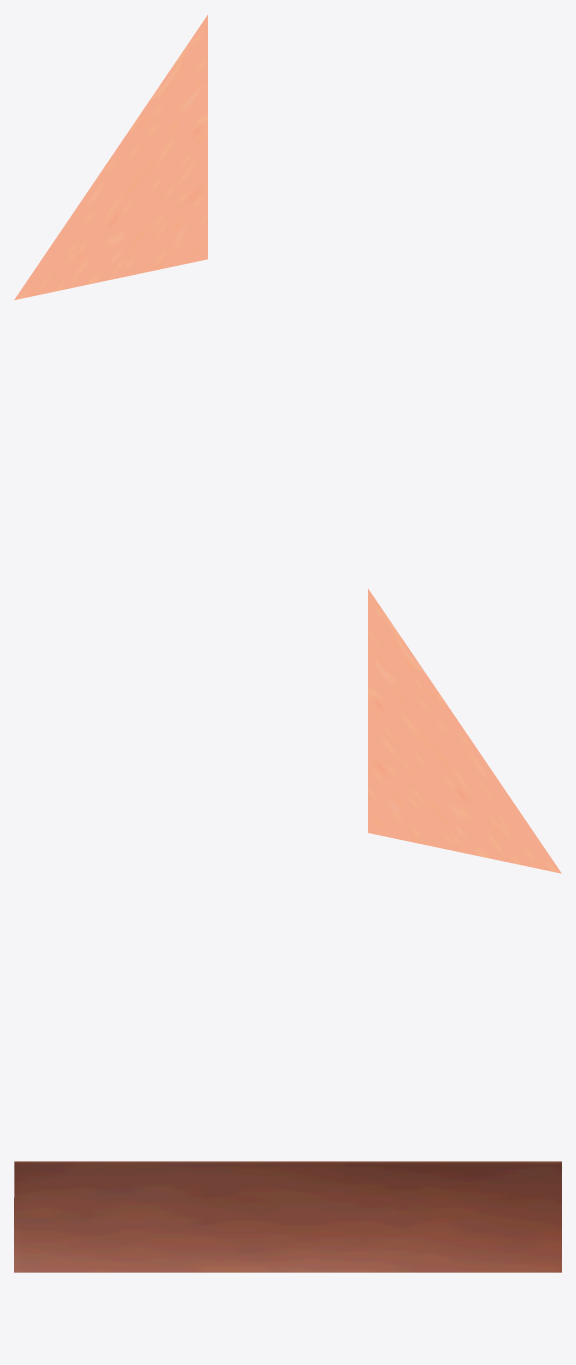
File: KITCHEN02flip.glb
3 renders of one model, top to bottom at view 1: azimuth 30°, elevation 25°; view 2: azimuth 150°, elevation 25°; view 3: azimuth 270°, elevation 25°, orthographic. The views are drawn at different scales.
Visible parts, largest first — view 1: KITCHEN02flip; view 2: KITCHEN02flip; view 3: KITCHEN02flip.
Part boxes in pixels (<box>): KITCHEN02flip: <box>14,15,207,300</box>; KITCHEN02flip: <box>368,588,561,873</box>; KITCHEN02flip: <box>14,1161,561,1272</box>.
Size of the model in its own units: 85.15 by 103 by 269.
Materials: 1 (1 with a texture image).
